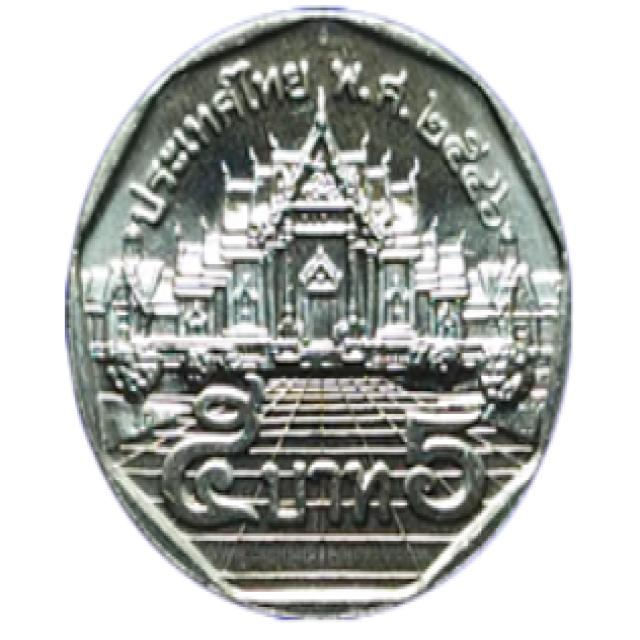5 Bath: (54, 4, 592, 638)
